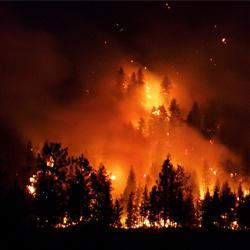fire: (142, 86, 166, 111), (134, 221, 175, 227), (111, 174, 124, 192)
